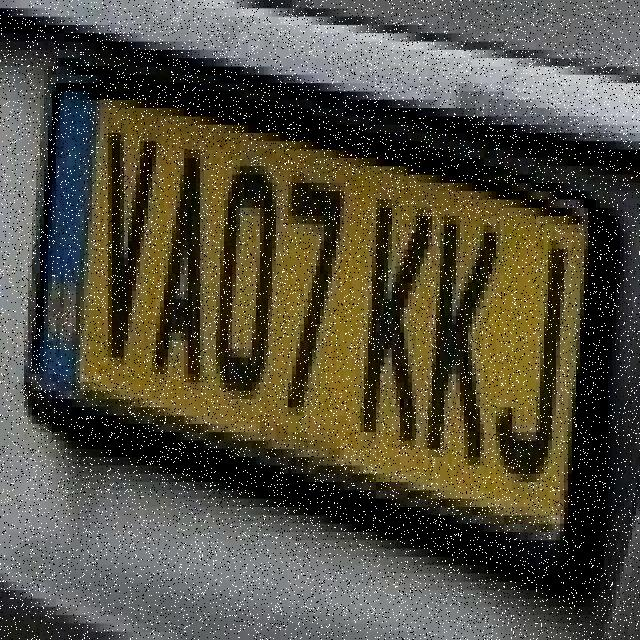licenseplate: (20, 28, 610, 610)
